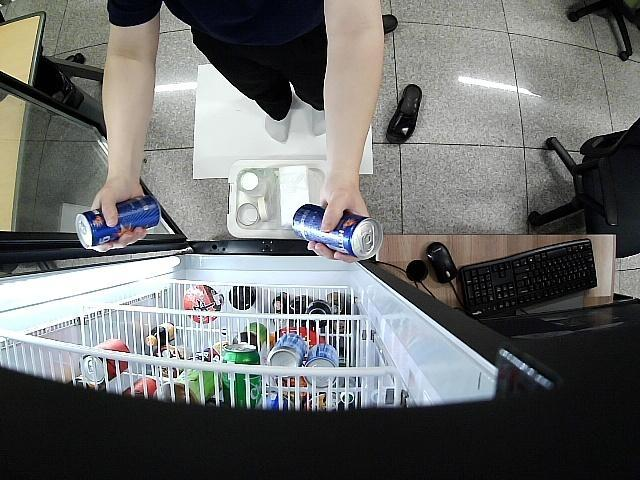16_hot6: (292, 202, 384, 262), (74, 192, 164, 250)
